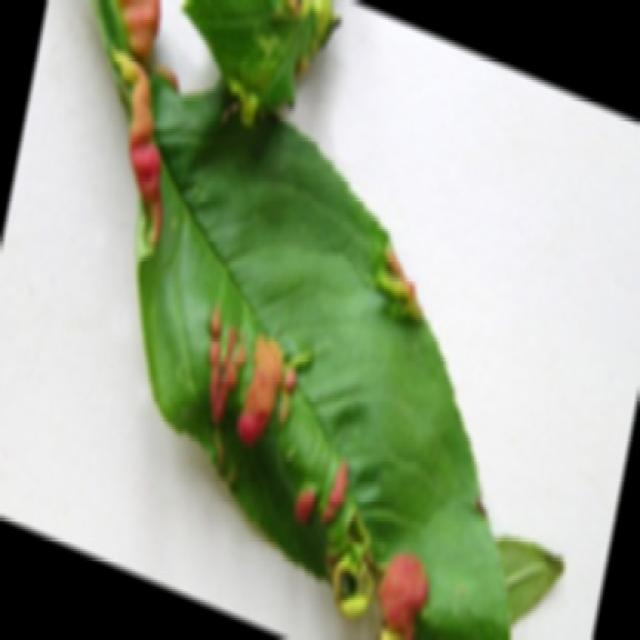peach_leaf_curl: (85, 0, 564, 638)
